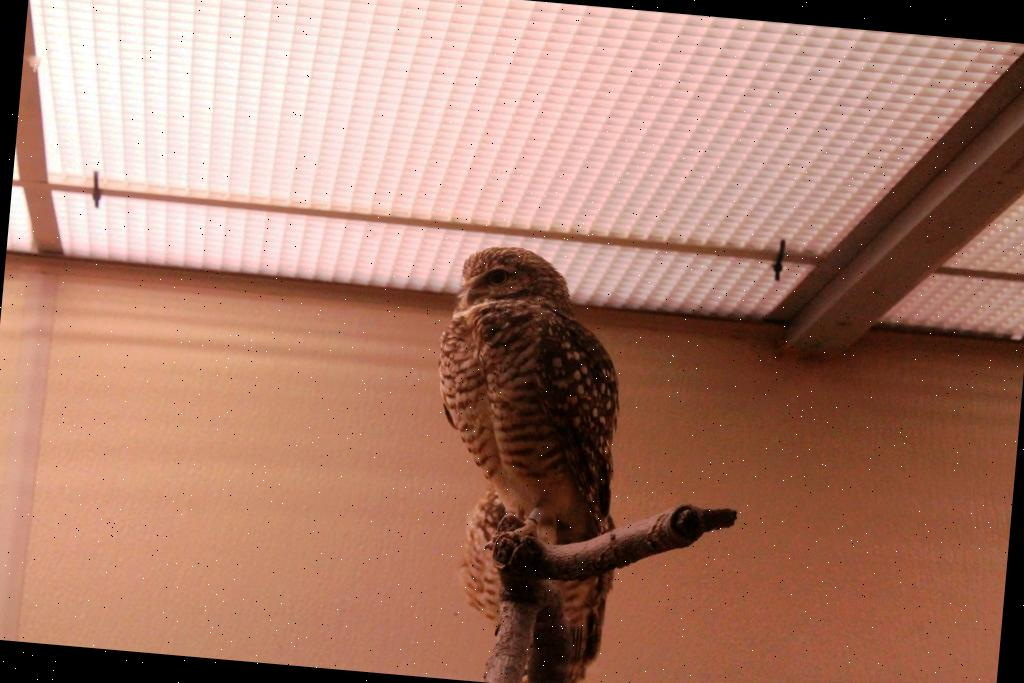Owl: (409, 237, 646, 683)
